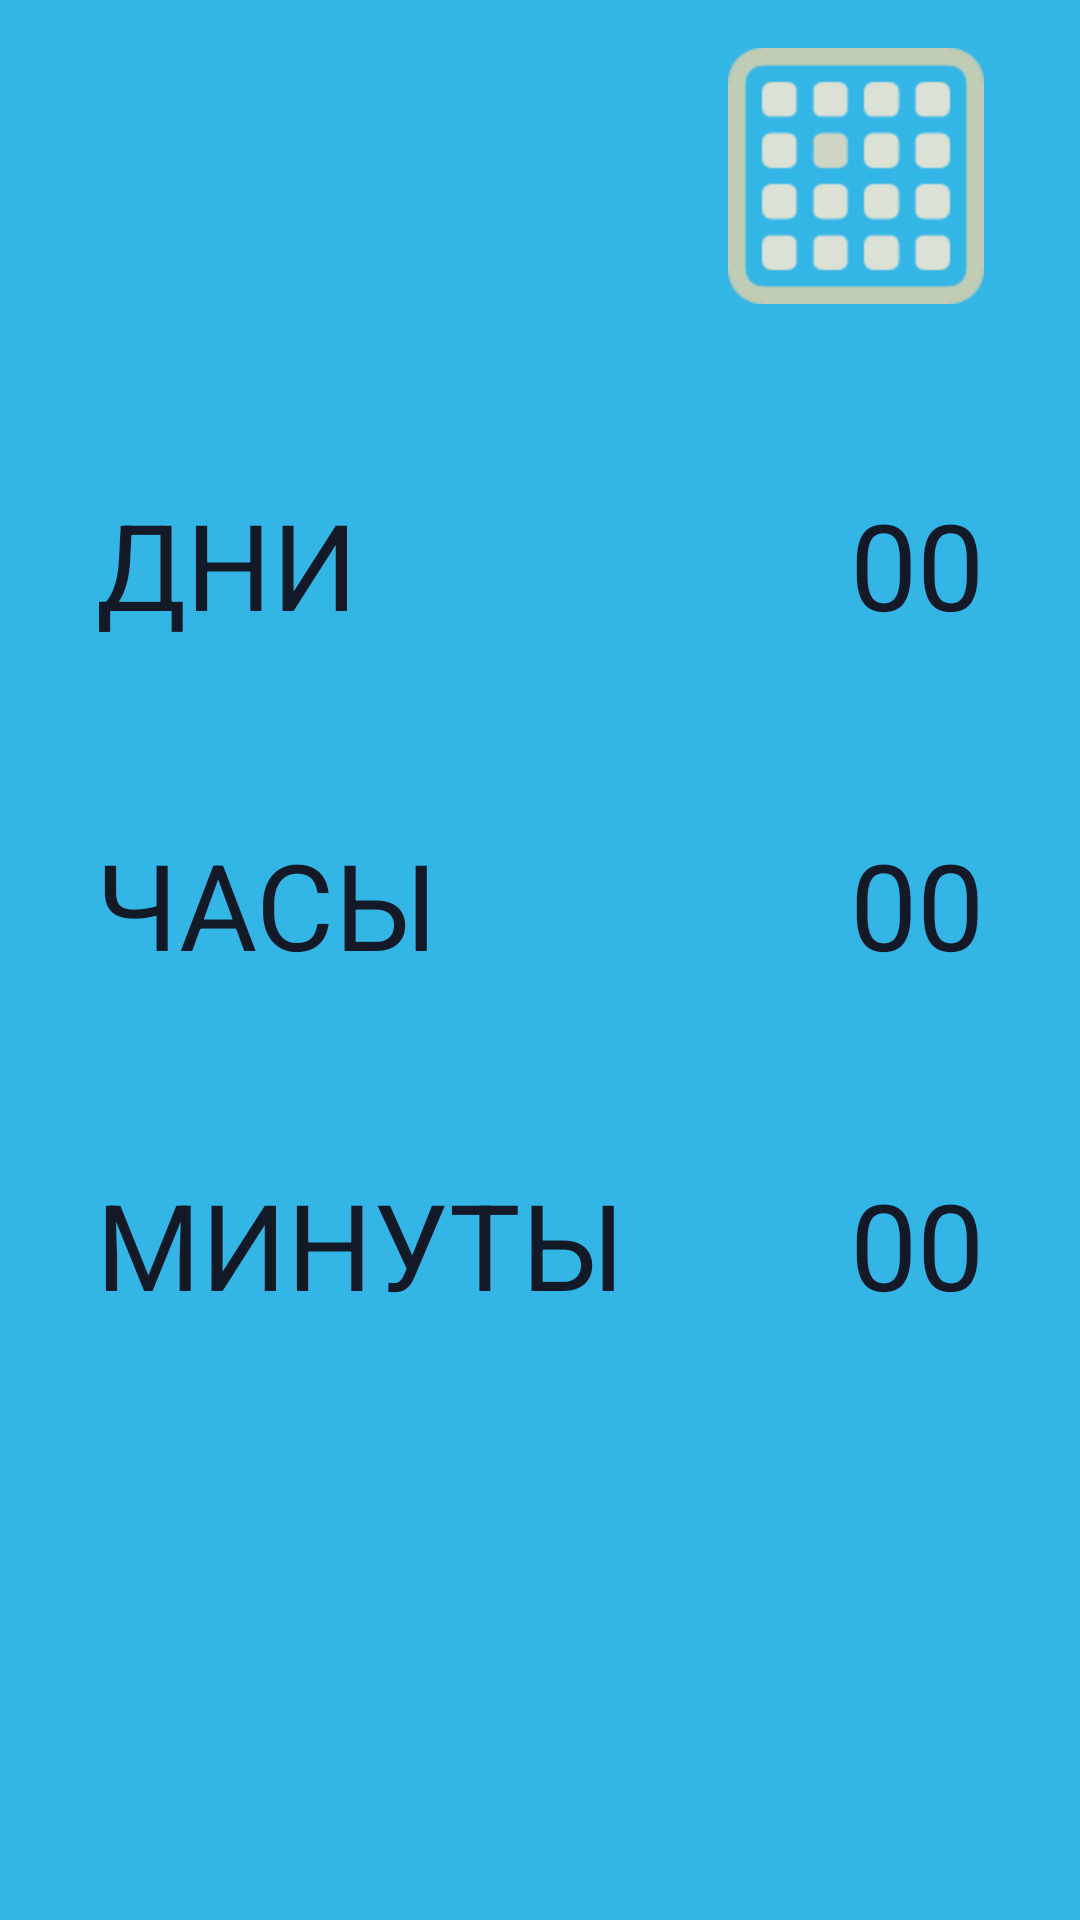

Screen size 1080px x 1920px. Icon name, then its center in pixels as (x,y):
calendar: (856,176)
